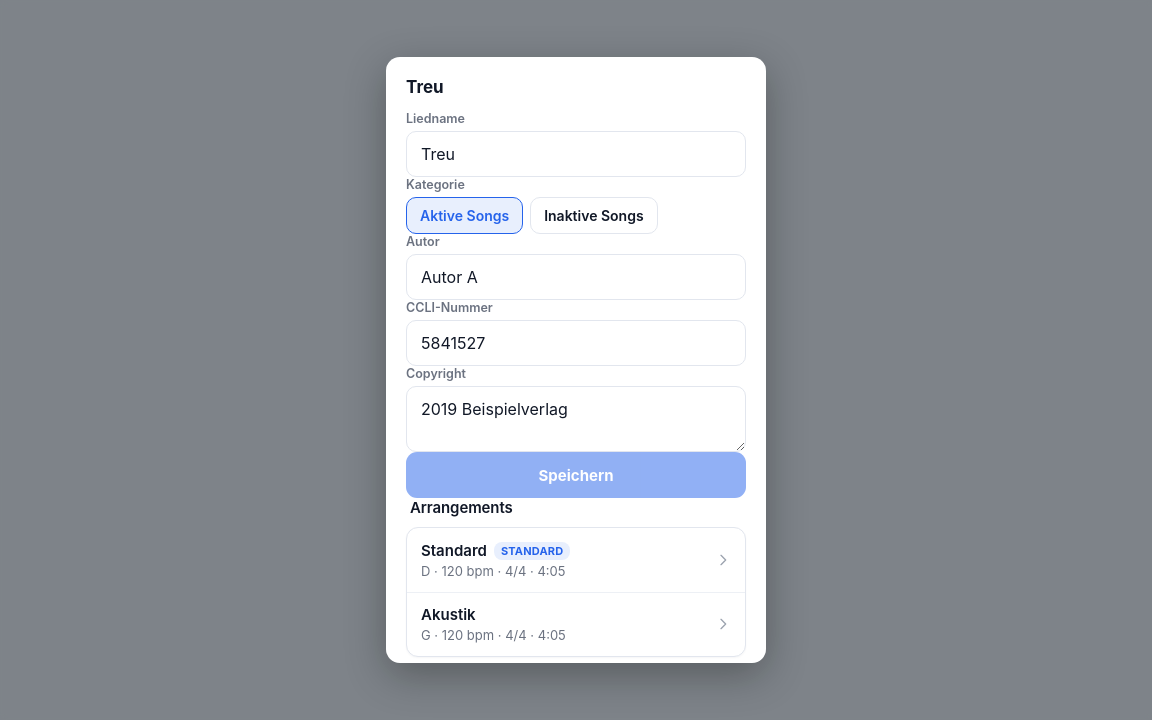
Test: EditSongSheet – Arrangements (#396) › öffnet beim Tippen das Fenster mit den Feldern dieses Arrangements
Click the button "Akustik G · 120 bpm · 4/4 · 4:05": [448, 615] box [407,592,745,656]
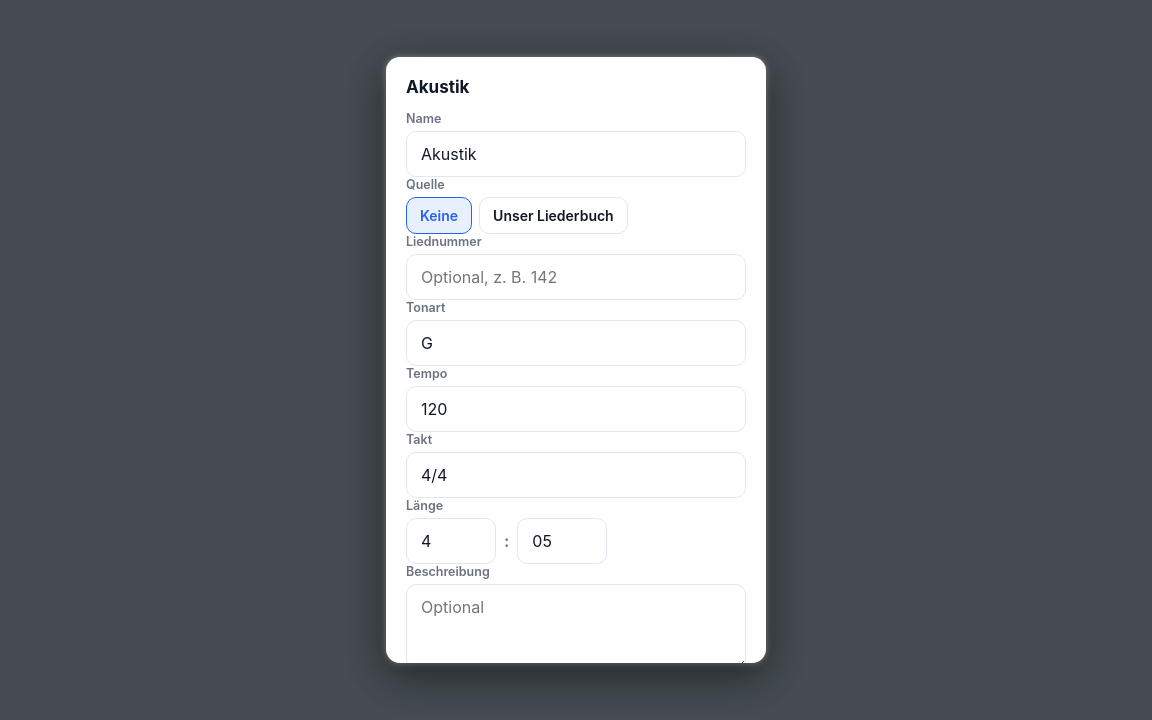
Expected: the 1st field showing "Akustik" is shown, [406,131,746,177]
Expected: the field showing "4/4" below "Takt" is shown, [406,452,746,498]
